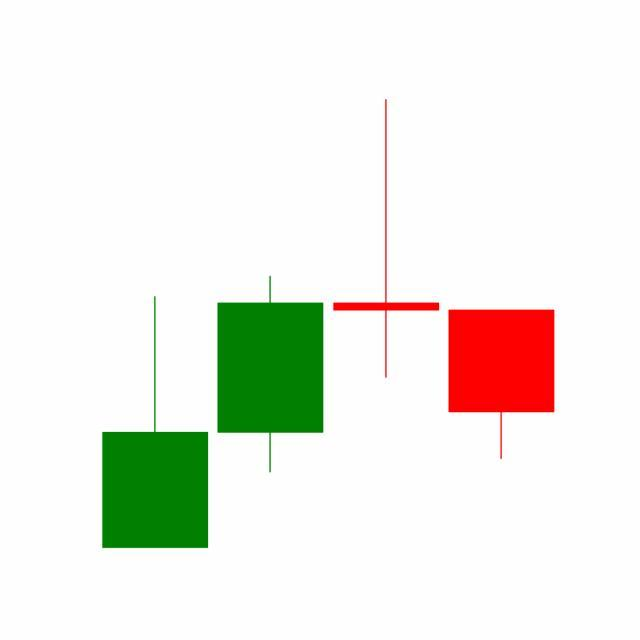Spinning Top: (329, 97, 445, 382)
